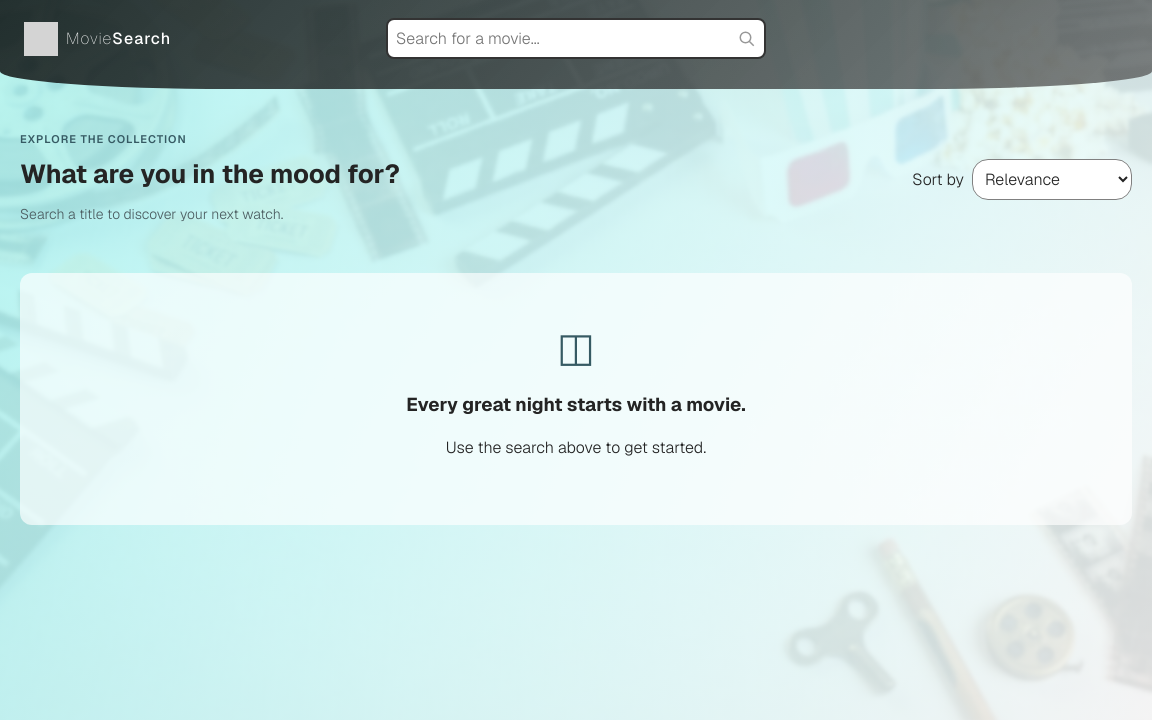
Test: recovers from search errors and paginates
The image size is (1152, 720).
Step 1. Type "test" into the search field named "Search movies" → (576, 38), box [386, 18, 766, 59]
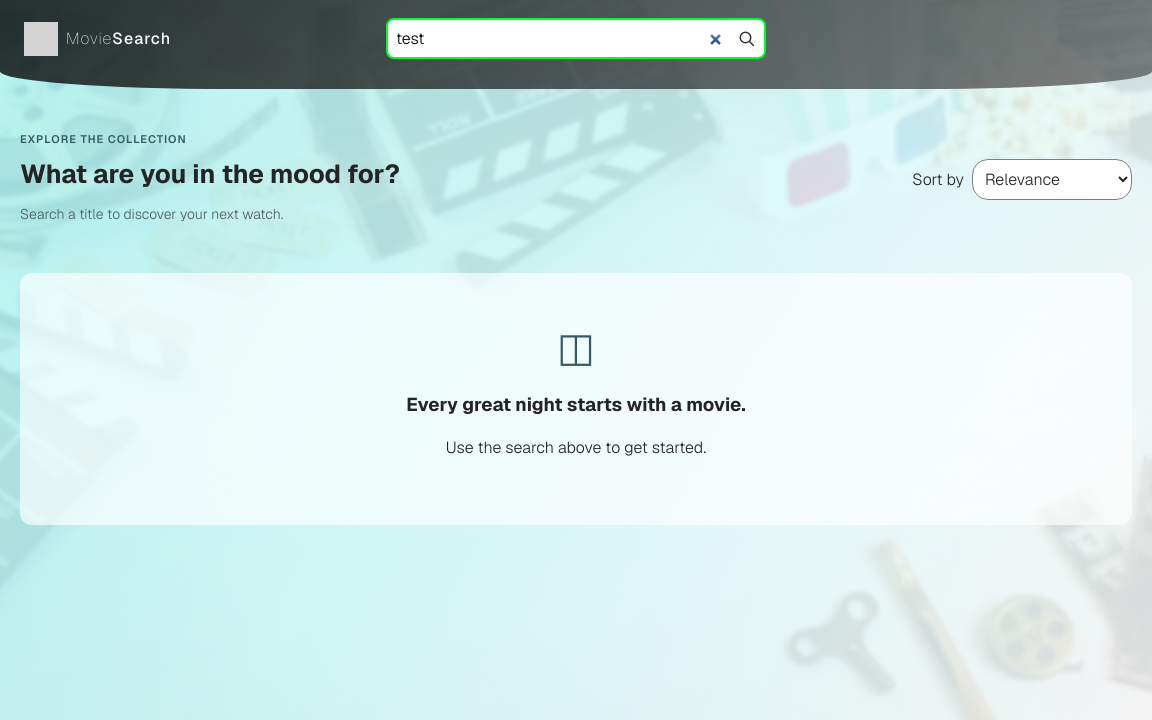
Step 2. Click the button named "Search" → (747, 38), box [732, 24, 762, 54]
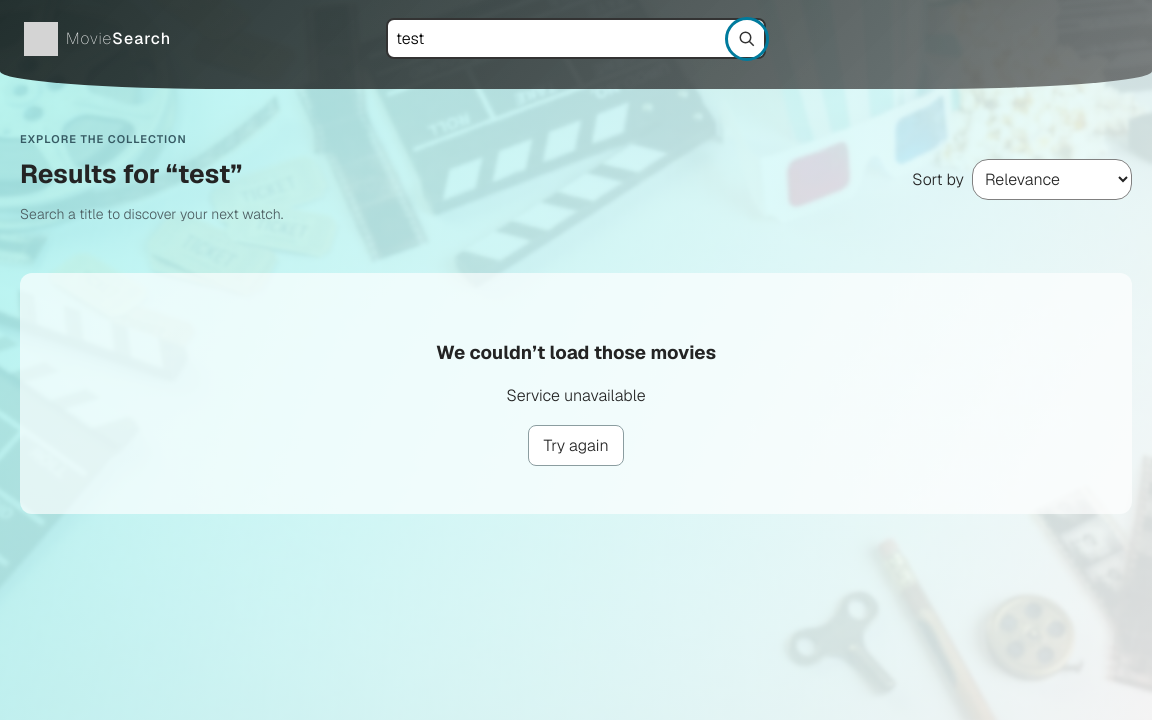
Expected: the message shows "Service unavailable", [506, 385, 646, 406]
Step 3. Click the button "Try again" → (576, 446), box [528, 425, 624, 466]
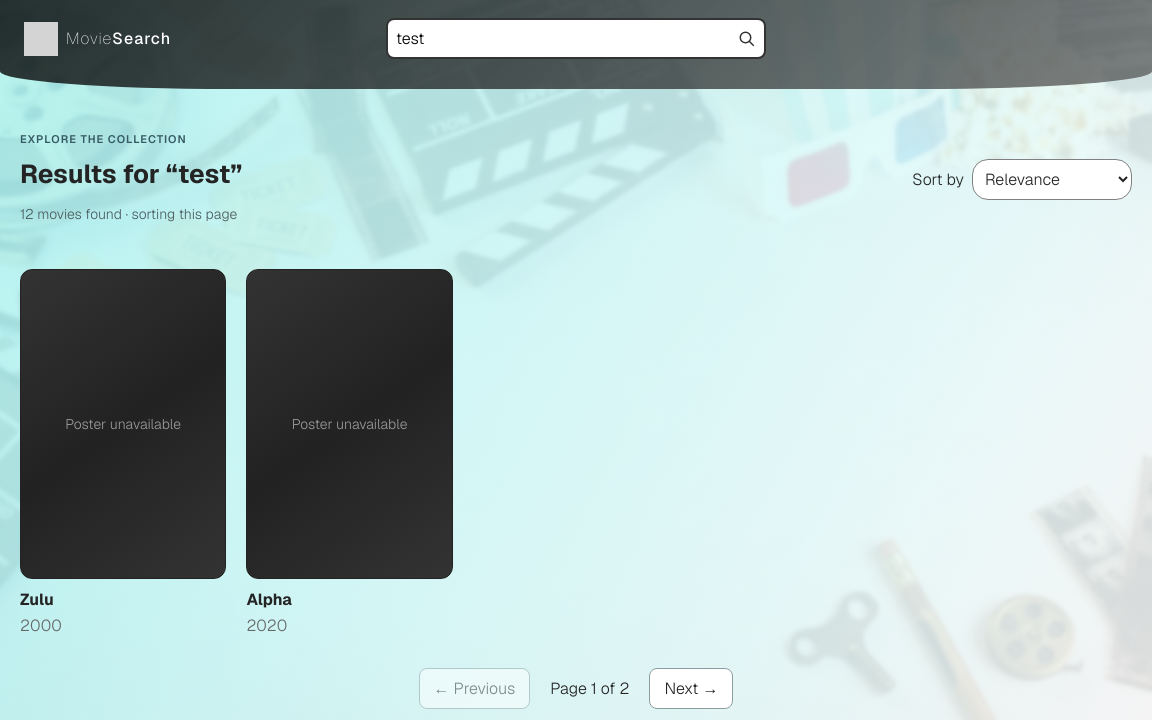
Expected: the text "Page 1 of 2" is shown, [550, 678, 629, 699]
Step 4. Click the button "Next →" → (691, 688), box [649, 668, 733, 709]
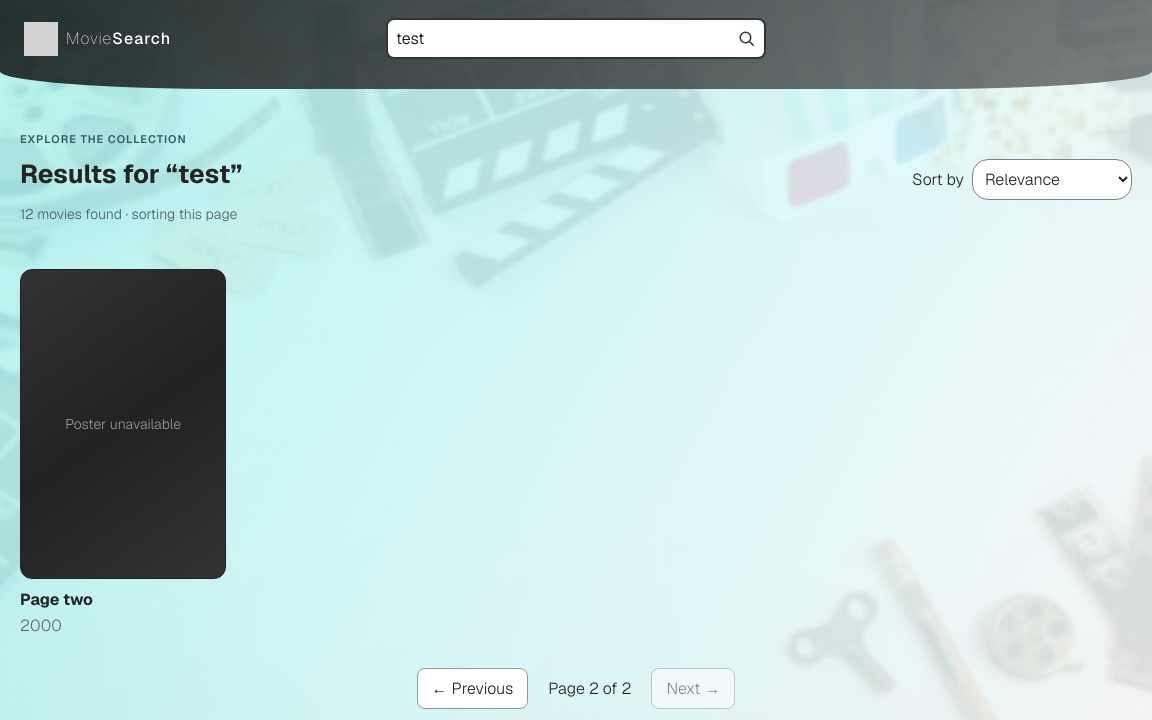
Expected: the heading "Page two" is shown, [20, 589, 93, 610]
Expected: the button "Next →" is disabled, [651, 668, 735, 709]
